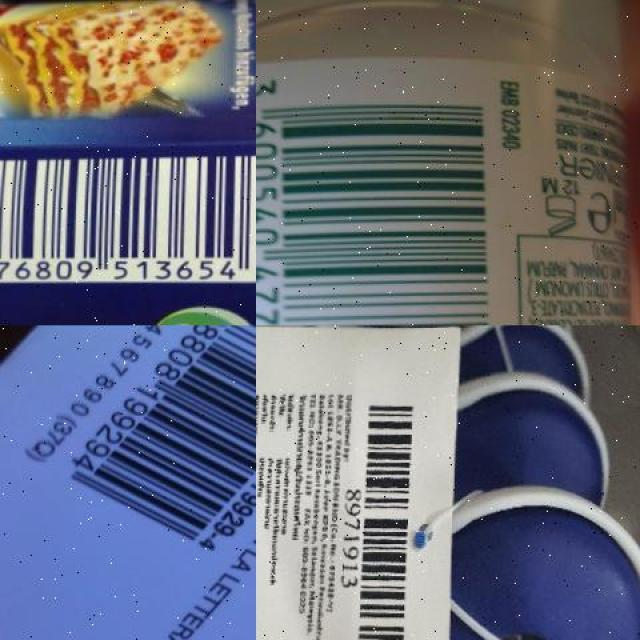Barcode: (256, 72, 497, 325), (47, 325, 256, 568), (0, 156, 256, 284), (337, 384, 419, 640)
